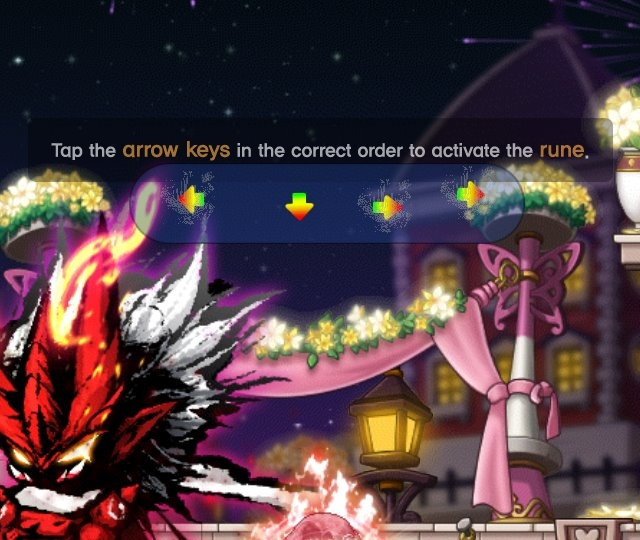down: (279, 184, 318, 227)
left: (171, 179, 211, 221)
right: (368, 189, 406, 225), (454, 177, 489, 210)
